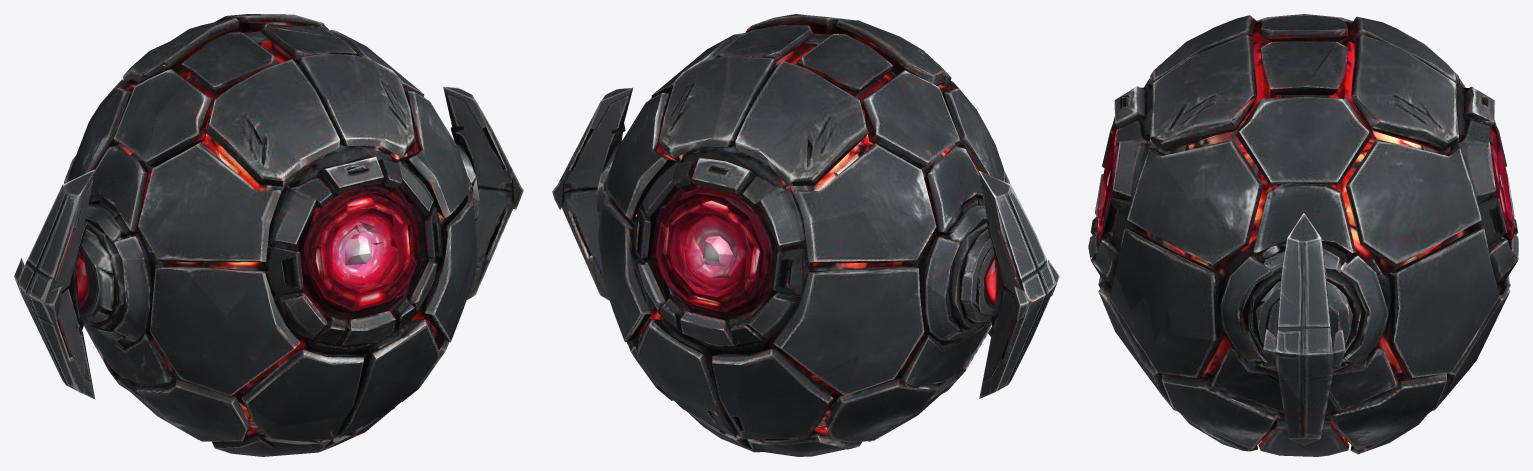
File: drone.glb
3 views of the same model, side by side, from view 1: azimuth 30°, elevation 25°; view 2: azimuth 150°, elevation 25°; view 3: azimuth 270°, elevation 25° (orthographic). The views are drawn at different scales.
Parts seen in each view (by area): view 1: Mesh_0; view 2: Mesh_0; view 3: Mesh_0.
Boxes of the visible parts, bbox=[...] form: Mesh_0: bbox=[14, 14, 523, 456]; Mesh_0: bbox=[552, 14, 1059, 456]; Mesh_0: bbox=[1088, 14, 1518, 456].
Size of the model in its own units: 1.9 by 1.48 by 1.42.
1 material, 1 textured.
